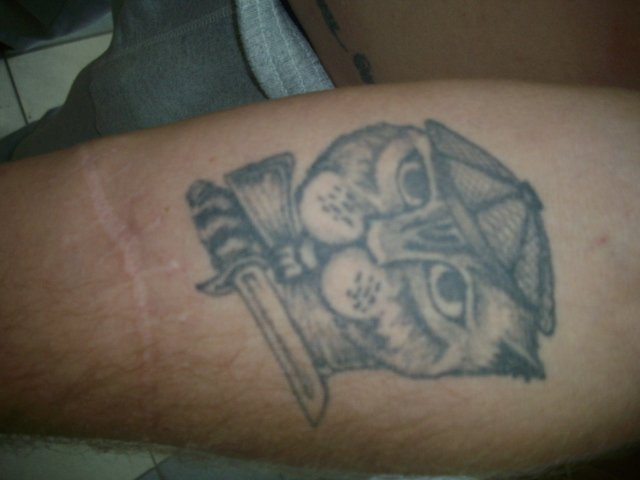tatu8_kot: (182, 112, 573, 433)
